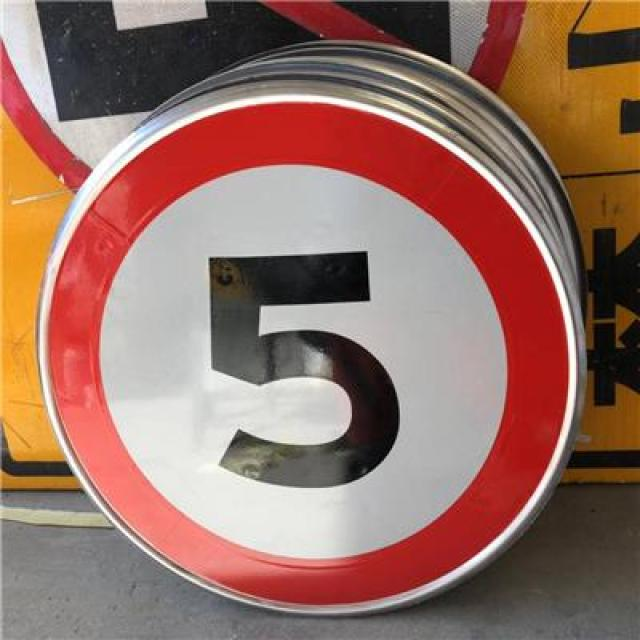speed limit 10: (36, 96, 587, 619)
